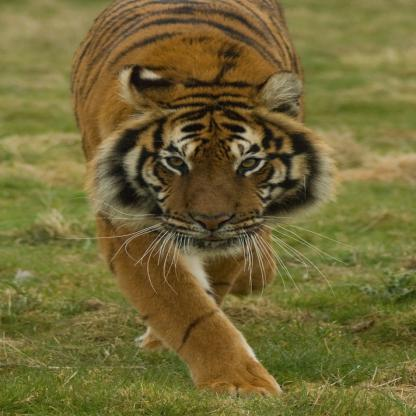Tiger: (58, 0, 363, 395)
